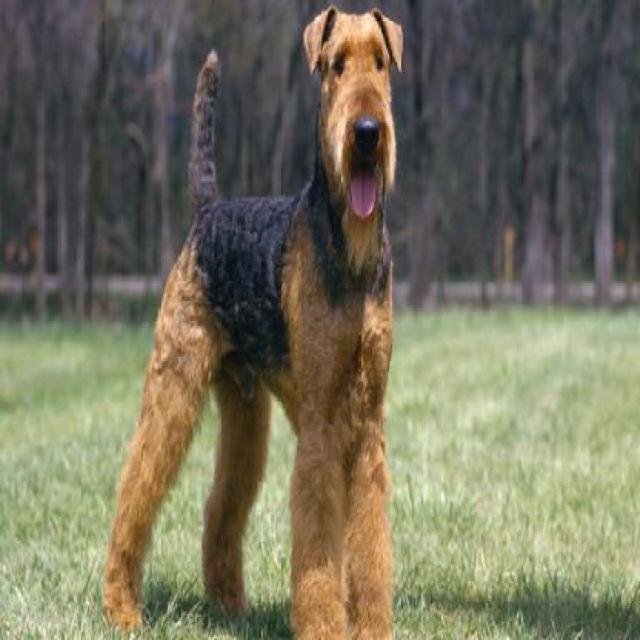animals: (178, 4, 414, 548)
